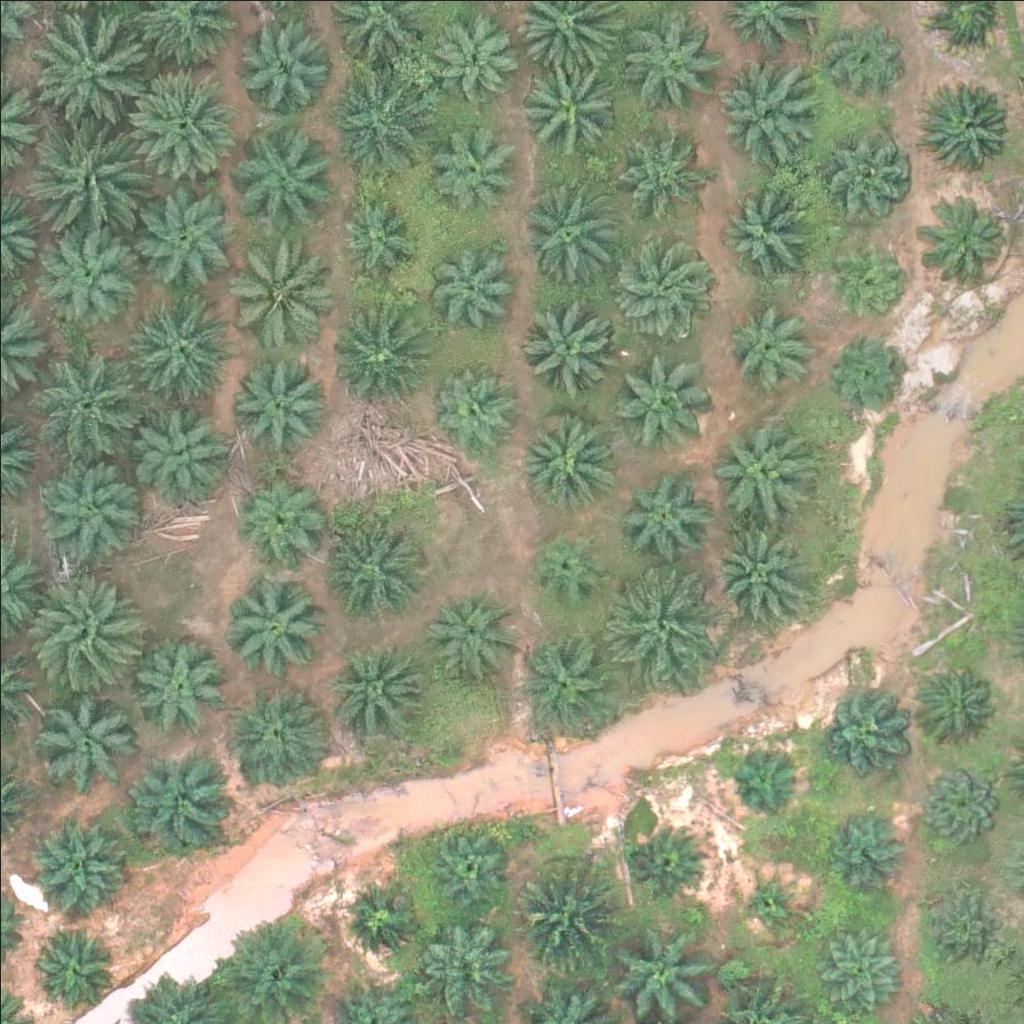Kelapa_Sawit: (605, 565, 718, 679), (218, 910, 331, 1023), (35, 117, 148, 230), (228, 116, 341, 229), (321, 61, 434, 174), (127, 295, 240, 408), (506, 864, 618, 977), (30, 5, 142, 118), (127, 69, 239, 182), (29, 345, 141, 458), (35, 455, 147, 568), (28, 575, 140, 688), (219, 232, 331, 345), (513, 630, 613, 731), (418, 907, 518, 1008), (33, 691, 133, 792), (135, 752, 235, 853), (227, 687, 327, 788), (327, 638, 427, 739), (236, 10, 336, 111), (513, 50, 613, 151), (621, 2, 721, 103), (37, 221, 137, 322), (130, 400, 230, 501), (137, 186, 237, 287), (225, 352, 325, 453), (222, 577, 322, 678), (326, 517, 426, 618), (613, 236, 713, 337), (721, 295, 821, 396), (30, 806, 130, 906), (131, 637, 231, 737), (715, 176, 815, 276), (712, 60, 812, 160), (331, 299, 431, 399), (517, 410, 617, 510), (517, 297, 617, 397), (518, 182, 618, 282), (609, 352, 709, 452), (705, 522, 805, 622), (714, 416, 814, 516), (814, 919, 902, 1007), (817, 680, 905, 768), (334, 875, 422, 963), (434, 119, 522, 207), (430, 7, 518, 95), (611, 118, 699, 206), (823, 231, 911, 319), (819, 13, 907, 101), (334, 198, 422, 286), (424, 588, 512, 676), (913, 653, 1000, 741), (918, 760, 1005, 848), (918, 881, 1005, 969), (820, 813, 907, 901), (422, 820, 509, 908), (30, 921, 117, 1009), (822, 130, 909, 218), (920, 189, 1007, 277), (924, 84, 1011, 172), (235, 478, 322, 566), (428, 244, 515, 332), (431, 367, 518, 455), (621, 467, 708, 555), (822, 330, 909, 418), (632, 824, 707, 900), (529, 530, 604, 606), (726, 742, 801, 817), (737, 865, 800, 928)
